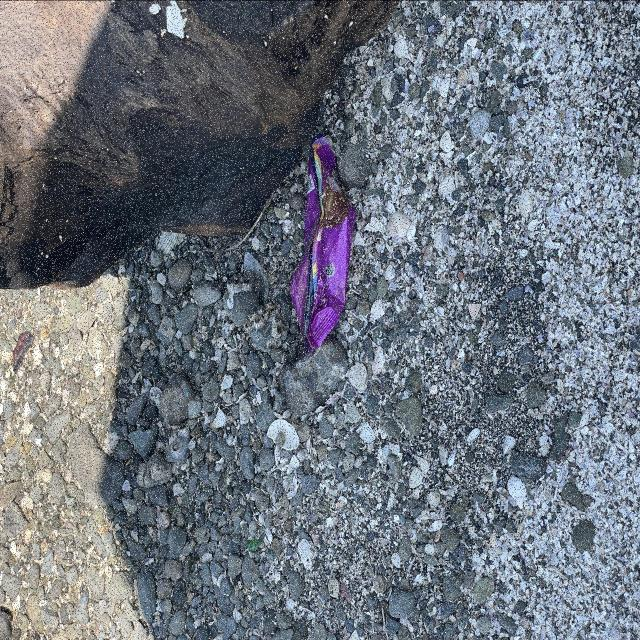plastic_waste: (290, 136, 354, 352)
